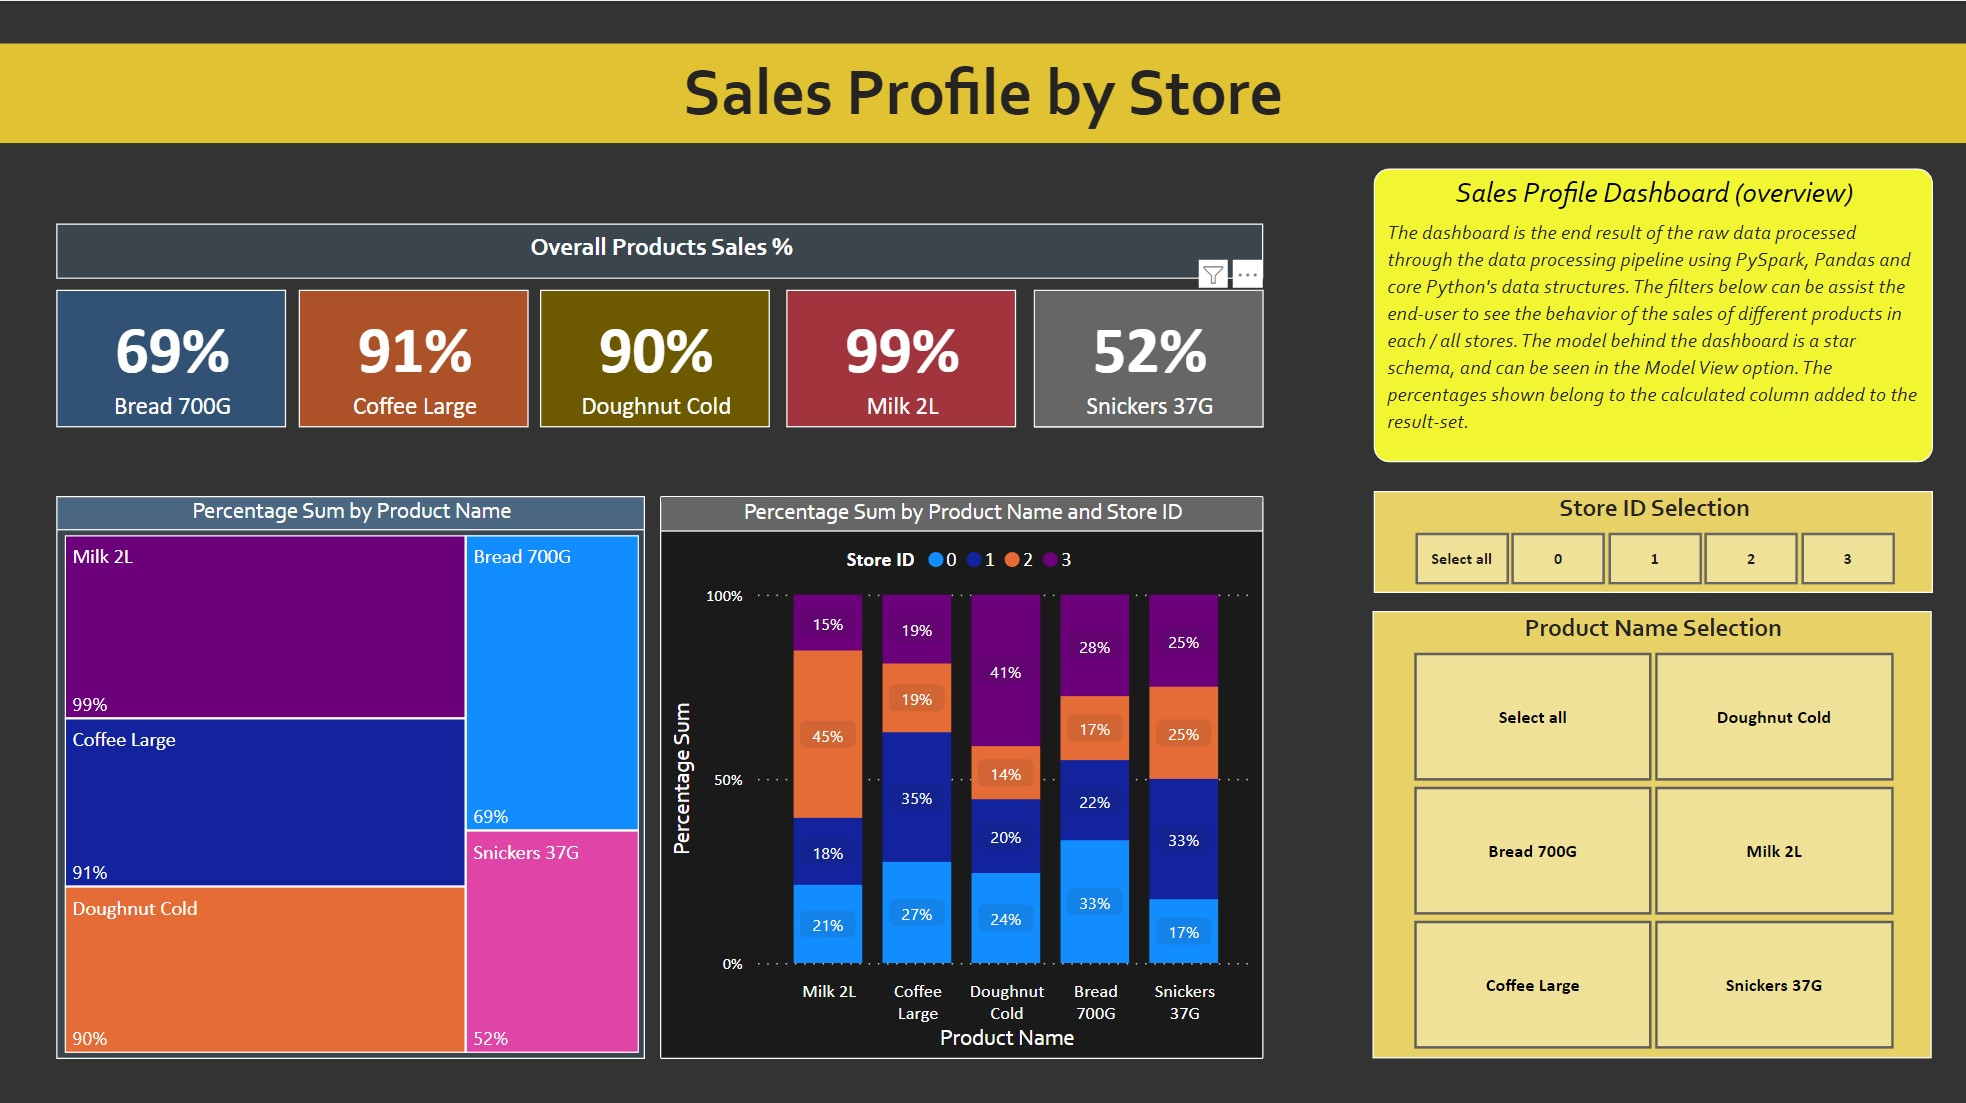

What the dashboard file says about the page in this screenshot:
{"tool":"powerbi","page":{"name":"Page 1","canvas":[1280,720],"ordinal":0},"visuals":[{"type":"textbox","title":"Sales ","box":[0,27.7,1279.7,65.1],"z":0,"group":"g2"},{"type":"card","fields":{"Values":["Sum(sales_profile_by_store.Percentage)"]},"box":[36.6,187.9,149.8,89.5],"z":0},{"type":"slicer","title":"Store ID Selection","fields":{"Values":["sales_profile_by_store.store_id"]},"box":[893.9,318.6,363.7,66.7],"z":0,"group":"g3"},{"type":"textbox","title":"Sales ","box":[36.6,144.8,785.9,35.8],"z":1000},{"type":"treemap","fields":{"Values":["Sum(sales_profile_by_store.Percentage)"],"Details":["sales_profile_by_store.product_name"]},"box":[36.6,322.2,383.2,366.1],"z":1000,"group":"g1"},{"type":"card","fields":{"Values":["Sum(sales_profile_by_store.Percentage)"]},"box":[194.5,187.9,149.8,89.5],"z":2000},{"type":"group","id":"g1","title":"Group 3","box":[36.6,322.2,785.9,366.1],"z":2000},{"type":"slicer","title":"Product Name Selection","fields":{"Values":["sales_profile_by_store.product_name"]},"box":[893.1,397.1,363.7,291.3],"z":2000,"group":"g3"},{"type":"card","fields":{"Values":["Sum(sales_profile_by_store.Percentage)"]},"box":[351.7,187.9,149.8,89.5],"z":3000},{"type":"hundredPercentStackedColumnChart","fields":{"Y":["Sum(sales_profile_by_store.Percentage)"],"Category":["sales_profile_by_store.Product Name"],"Series":["sales_profile_by_store.Store ID"]},"box":[429.5,322.2,392.9,366.1],"z":3000,"group":"g1"},{"type":"card","fields":{"Values":["Sum(sales_profile_by_store.Percentage)"]},"box":[511.9,187.9,149.8,89.5],"z":4000},{"type":"card","fields":{"Values":["Sum(sales_profile_by_store.Percentage)"]},"box":[672.7,187.9,149.8,89.5],"z":5000},{"type":"textbox","title":"Sales Profile Dashboard (overview)","box":[894.1,109.1,363.7,191.2],"z":5001,"group":"g2"},{"type":"group","id":"g2","title":"Group 2","box":[0,27.7,1279.7,272.5],"z":5002},{"type":"group","id":"g3","title":"Group 1","box":[893.1,318.6,364.5,369.7],"z":5003}]}

Visuals, with their boxes in screenshot pixels (x1, y1, x2, y2), scaled from the page's 1280x720 canvas onto the 1966x1103 screenshot:
"Sales " textbox: {"left": 0, "top": 42, "right": 1965, "bottom": 142}
card - Sum(sales_profile_by_store.Percentage): {"left": 56, "top": 288, "right": 286, "bottom": 425}
"Store ID Selection" slicer: {"left": 1373, "top": 488, "right": 1932, "bottom": 590}
"Sales " textbox: {"left": 56, "top": 222, "right": 1263, "bottom": 277}
treemap - Sum(sales_profile_by_store.Percentage) x sales_profile_by_store.product_name: {"left": 56, "top": 494, "right": 645, "bottom": 1054}
card - Sum(sales_profile_by_store.Percentage): {"left": 299, "top": 288, "right": 529, "bottom": 425}
"Group 3" group: {"left": 56, "top": 494, "right": 1263, "bottom": 1054}
"Product Name Selection" slicer: {"left": 1372, "top": 608, "right": 1930, "bottom": 1055}
card - Sum(sales_profile_by_store.Percentage): {"left": 540, "top": 288, "right": 770, "bottom": 425}
hundredPercentStackedColumnChart - Sum(sales_profile_by_store.Percentage) x sales_profile_by_store.Product Name: {"left": 660, "top": 494, "right": 1263, "bottom": 1054}
card - Sum(sales_profile_by_store.Percentage): {"left": 786, "top": 288, "right": 1016, "bottom": 425}
card - Sum(sales_profile_by_store.Percentage): {"left": 1033, "top": 288, "right": 1263, "bottom": 425}
"Sales Profile Dashboard (overview)" textbox: {"left": 1373, "top": 167, "right": 1932, "bottom": 460}
"Group 2" group: {"left": 0, "top": 42, "right": 1965, "bottom": 460}
"Group 1" group: {"left": 1372, "top": 488, "right": 1932, "bottom": 1054}
